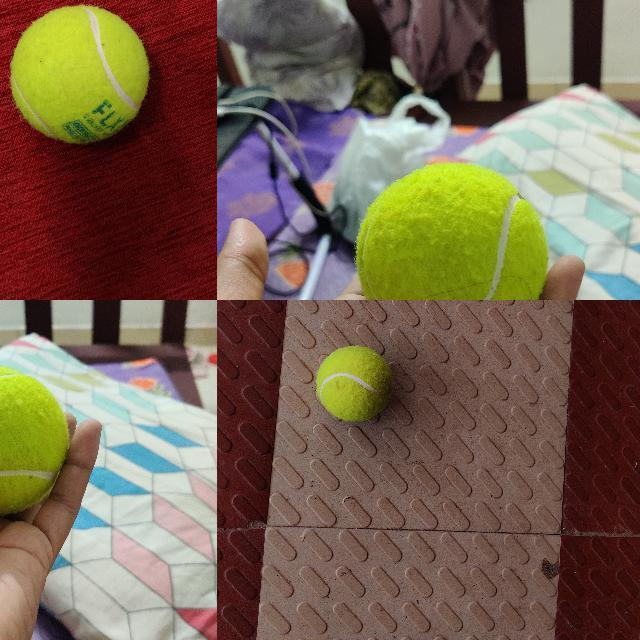tennis-ball: (355, 164, 548, 299), (9, 4, 151, 144), (0, 366, 69, 515), (316, 345, 393, 421)
